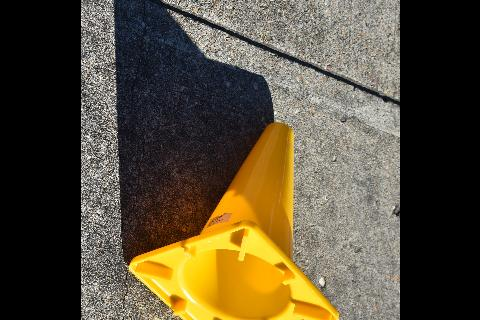cone: (126, 122, 337, 320)
